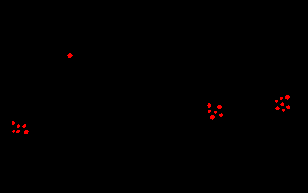Target: (67, 53, 73, 58), (285, 95, 290, 100), (210, 115, 215, 120), (207, 103, 211, 108), (217, 105, 222, 109), (275, 106, 280, 110), (24, 130, 29, 134), (280, 102, 284, 106), (286, 105, 290, 109), (219, 113, 223, 117), (22, 124, 26, 128), (12, 121, 15, 125), (17, 124, 20, 128), (16, 130, 20, 133), (280, 97, 283, 100), (275, 100, 278, 103), (282, 109, 285, 112), (208, 110, 211, 113), (214, 111, 217, 114), (12, 130, 15, 133)
